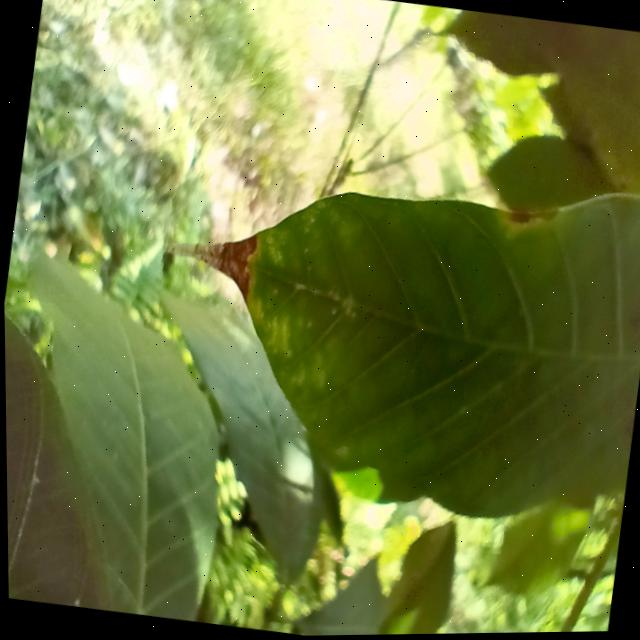Leaf-Blight: (165, 224, 259, 310)
